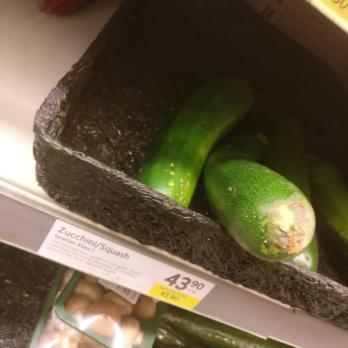Cucumber: (154, 67, 337, 261)
